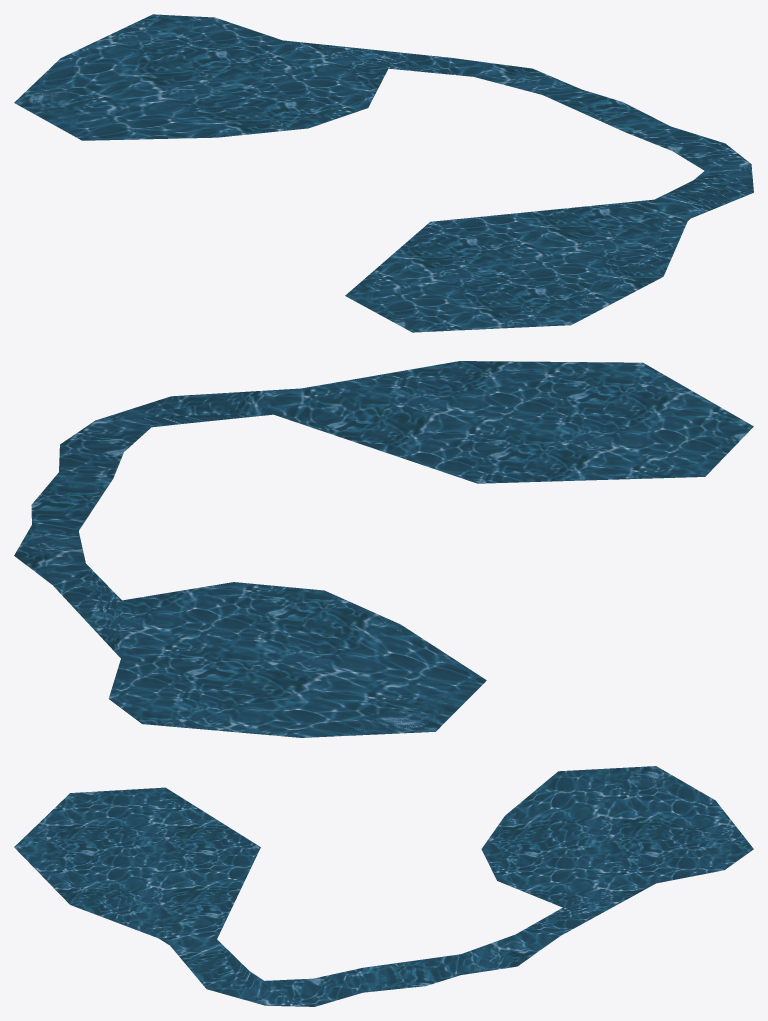
The model's file is QSMY_MJ_river.FBX.
The picture shows the model from 3 angles, top to bottom: view 1: azimuth 30°, elevation 25°; view 2: azimuth 150°, elevation 25°; view 3: azimuth 270°, elevation 25°; orthographic projection. The views are drawn at different scales.
Visible parts, largest first — view 1: Object32; view 2: Object32; view 3: Object32.
Boxes of the visible parts, x1,y1,x2,y2 form: Object32: (14,14,753,332); Object32: (14,361,753,737); Object32: (14,766,753,1006).
Bounding box in the file's own units: 196 × 8.57 × 278.
